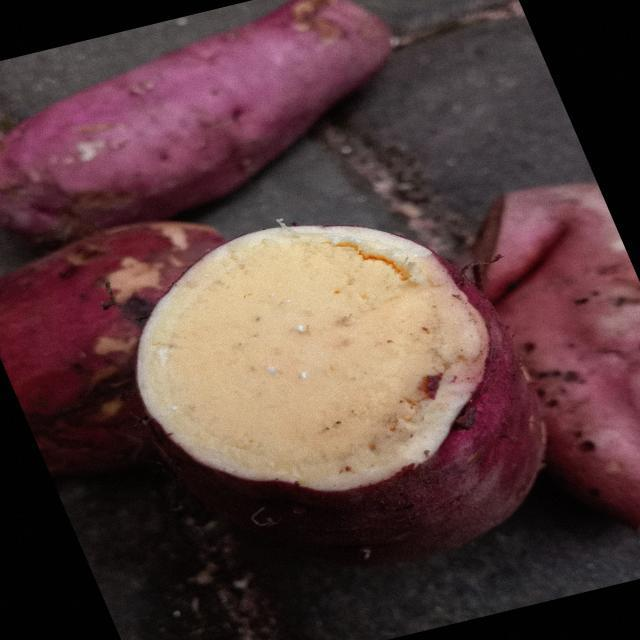Healthy Sweet Potato: (138, 226, 488, 490)
